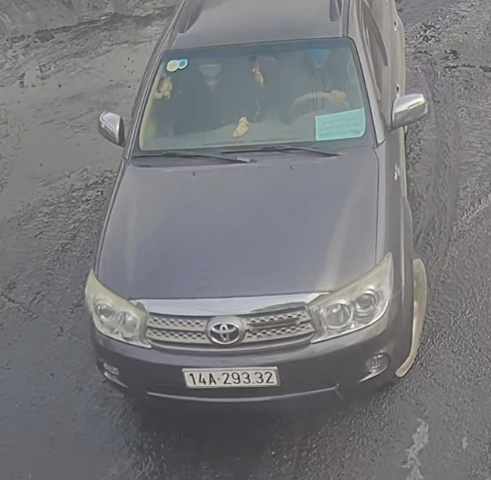vehicle plate: (178, 364, 285, 390)
